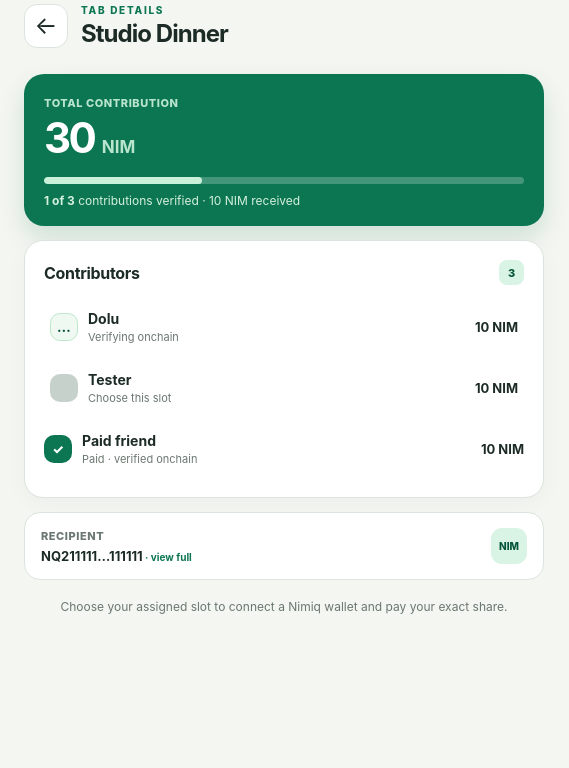
Test case: Tab participant recovery selection › keeps unpaid slots selectable and the unrelated Tester slot payment-ready
This screenshot has width=569, height=768.
Click the button "Tester Choose this slot 10 NIM": (110, 380) [44, 359, 524, 417]
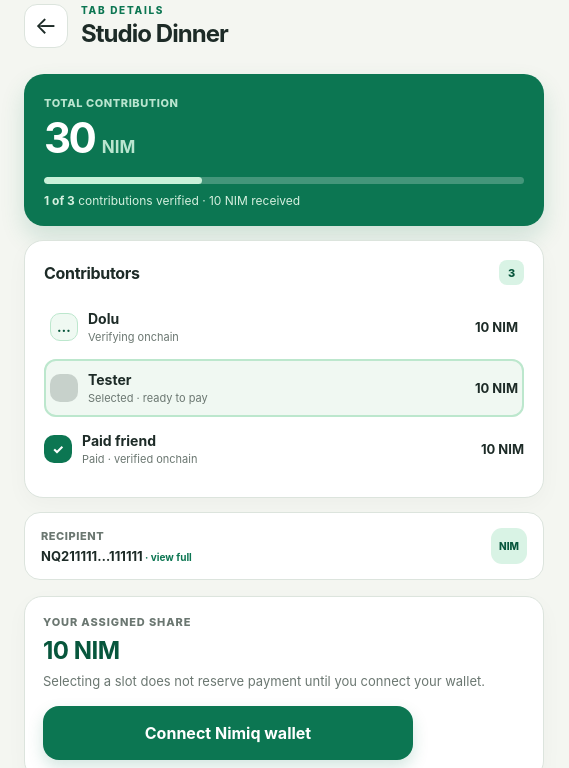
expect the button "Connect Nimiq wallet" is shown: met, box [43, 706, 413, 760]
